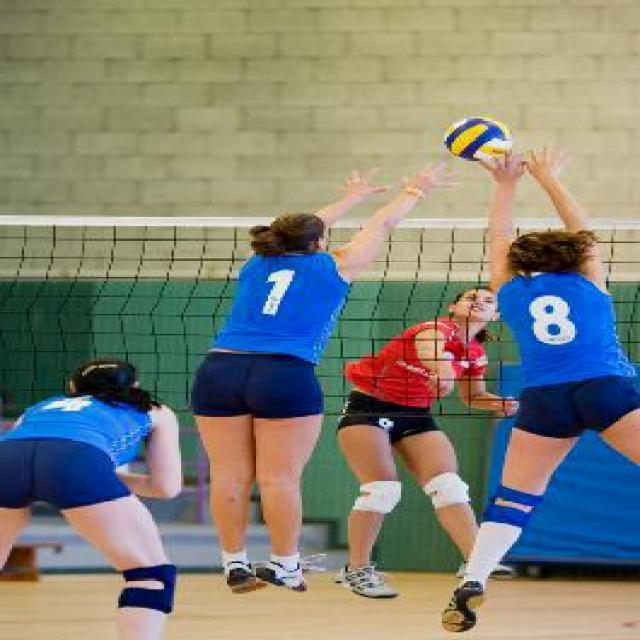volleyball: (442, 116, 514, 162)
